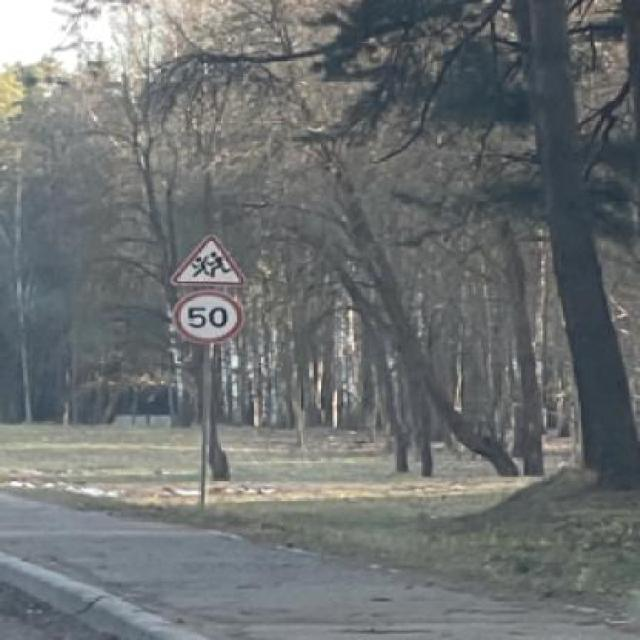Speed limit 50: (170, 289, 246, 346)
